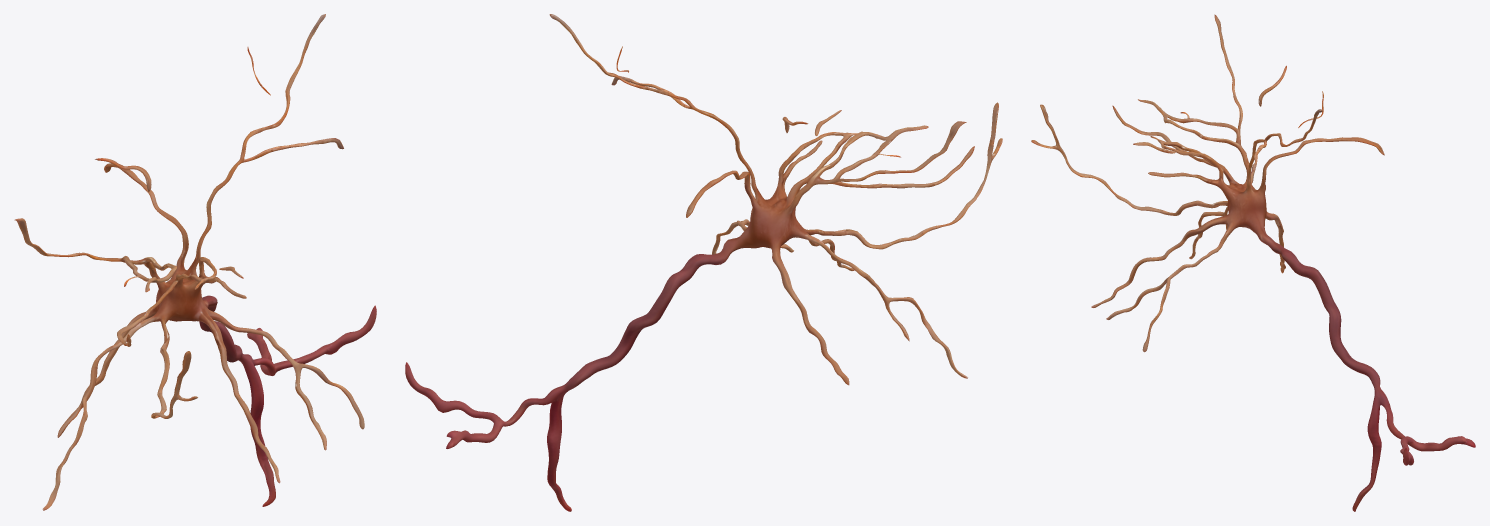
Rendered from neuron.glb.
The picture shows the model from 3 angles, left to right: view 1: azimuth 30°, elevation 25°; view 2: azimuth 150°, elevation 25°; view 3: azimuth 270°, elevation 25°; orthographic projection. The views are drawn at different scales.
Parts seen in each view (by area): view 1: model; view 2: model; view 3: model.
Part boxes in pixels (bbox=[...]): model: bbox=[14, 14, 376, 510]; model: bbox=[405, 14, 1002, 511]; model: bbox=[1031, 14, 1475, 511].
Bounding box in the file's own units: 1.9 × 1.89 × 1.83.
1 material, 1 textured.
